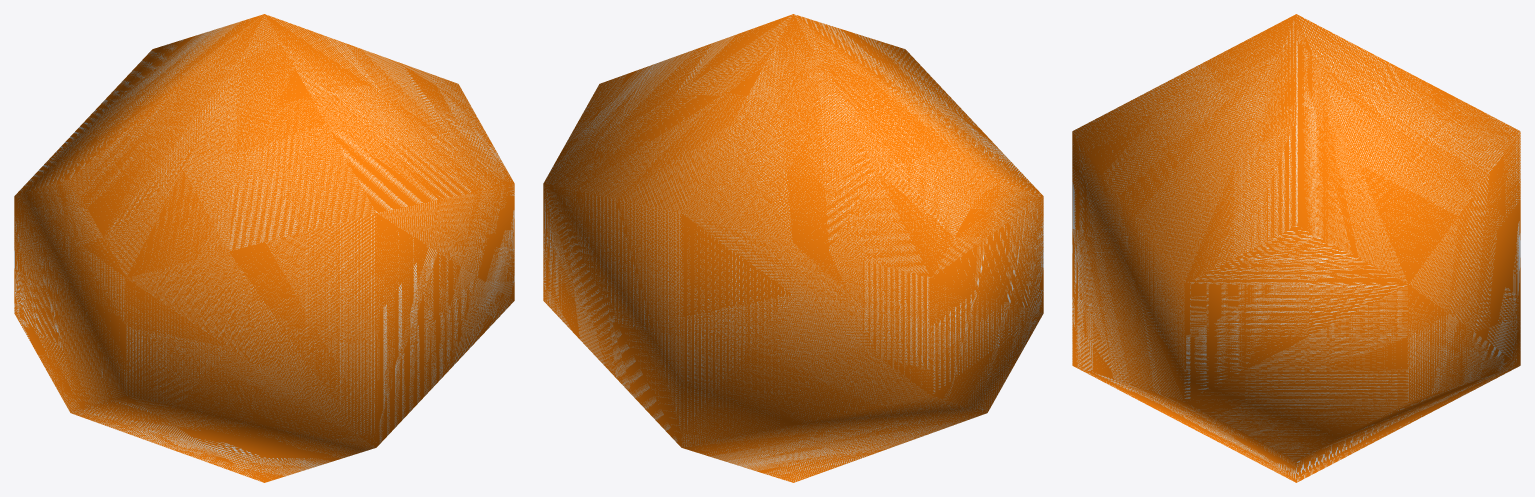
File: original-13.obj
3 renders of one model, left to right at view 1: azimuth 30°, elevation 25°; view 2: azimuth 150°, elevation 25°; view 3: azimuth 270°, elevation 25°, orthographic.
Parts seen in each view (by area): view 1: Group14/mesh11/mesh11-geometry#mesh11-geometry; view 2: Group14/mesh11/mesh11-geometry#mesh11-geometry; view 3: Group14/mesh11/mesh11-geometry#mesh11-geometry.
Boxes of the visible parts, x1=… form: Group14/mesh11/mesh11-geometry#mesh11-geometry: x1=14, y1=14, x2=514, y2=482; Group14/mesh11/mesh11-geometry#mesh11-geometry: x1=543, y1=14, x2=1043, y2=482; Group14/mesh11/mesh11-geometry#mesh11-geometry: x1=1072, y1=14, x2=1520, y2=482.
Bounding box in the file's own units: 0.0201 × 0.0232 × 0.0201.
